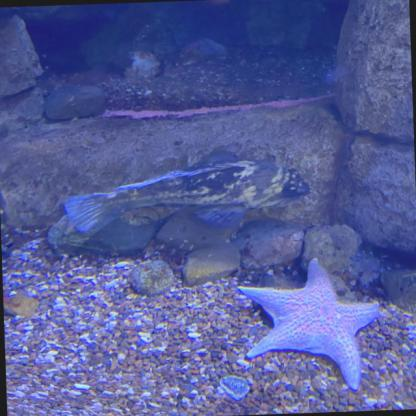fish: (61, 158, 324, 230)
starfish: (223, 254, 387, 388)
